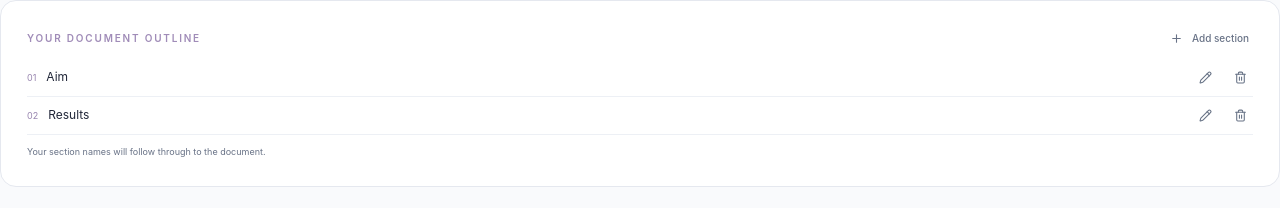
Test: outline and A4 revisions › renames and removes outline sections without allowing an empty outline
Step 1. Click the button named "Edit Aim" → (1206, 78), box 1193,65 -> 1218,90
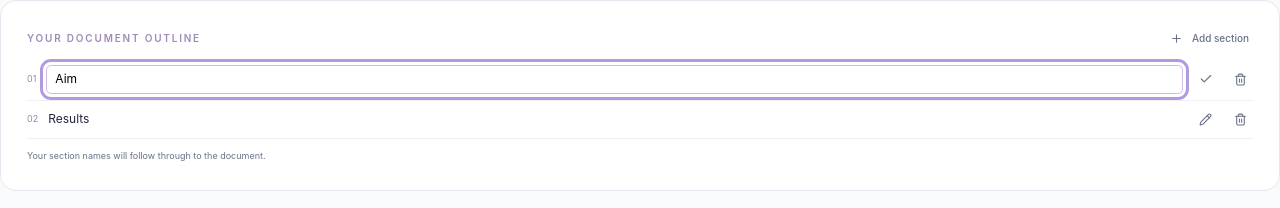
Step 2. Replace the text in the field named "Section 1 name" with "My aim" → (615, 79), box 46,65 -> 1183,94
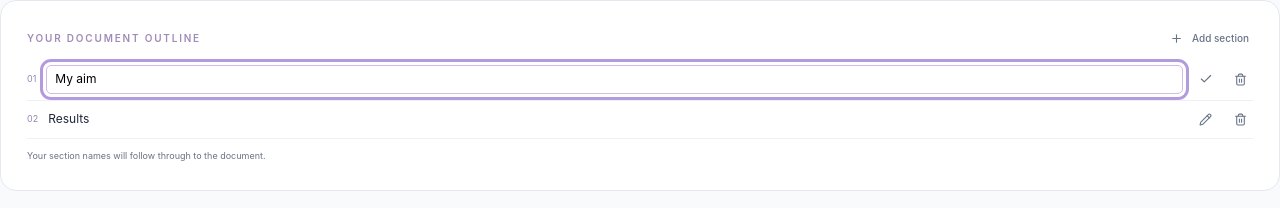
Step 3. Click the button named "Save section 1" → (1206, 79), box 1193,67 -> 1218,92
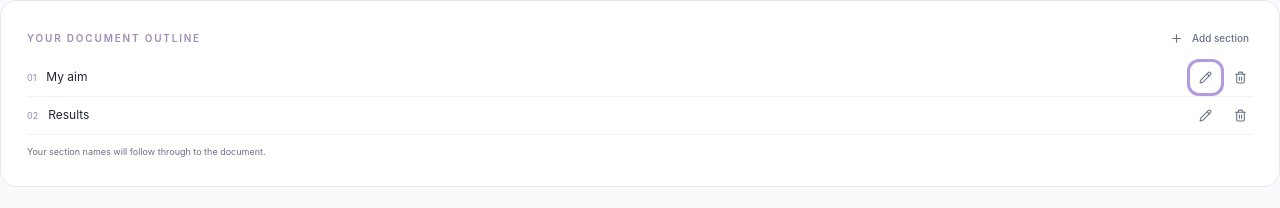
Check: the text "My aim" is shown, box 46,69 -> 88,84
Step 4. Click the button named "Delete Results" → (1240, 116), box 1228,103 -> 1253,128
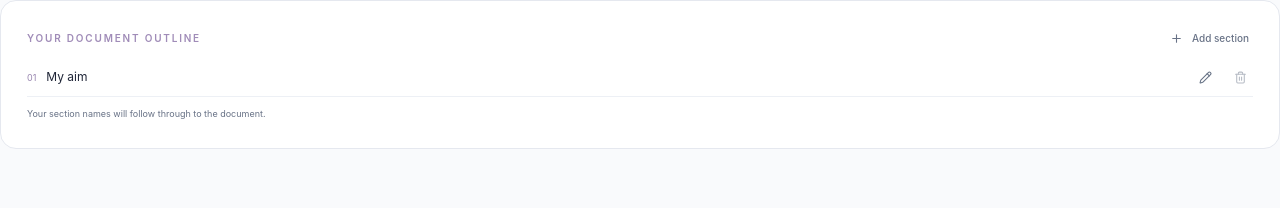
Check: the button named "Delete My aim" is disabled, box 1228,65 -> 1253,90
